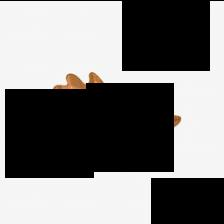brown: (38, 71, 181, 169)
